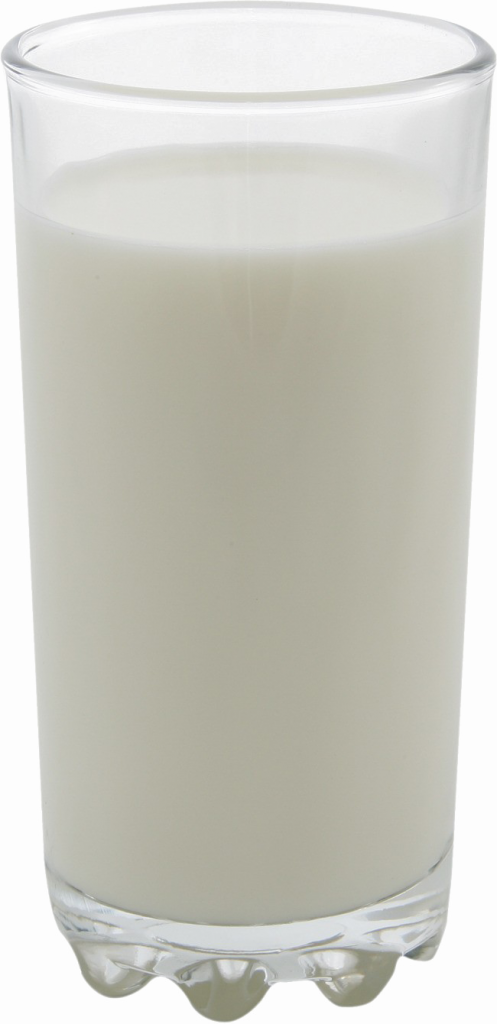glass of milk: (15, 65, 482, 992)
